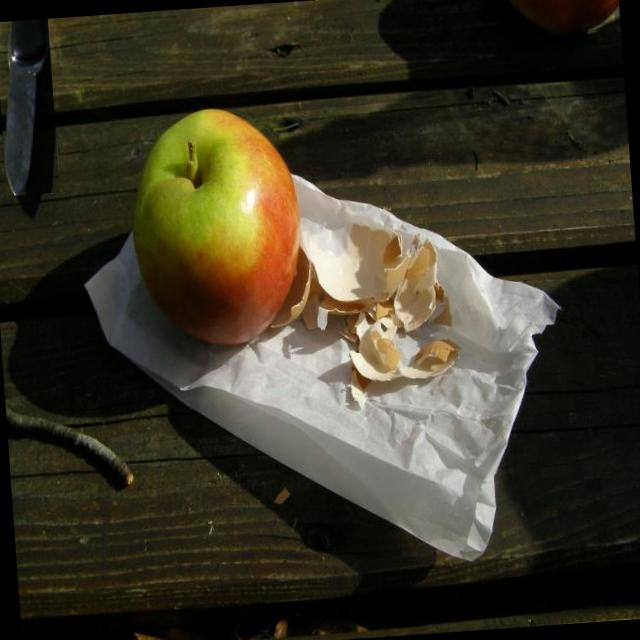Knife: (4, 18, 49, 195)
